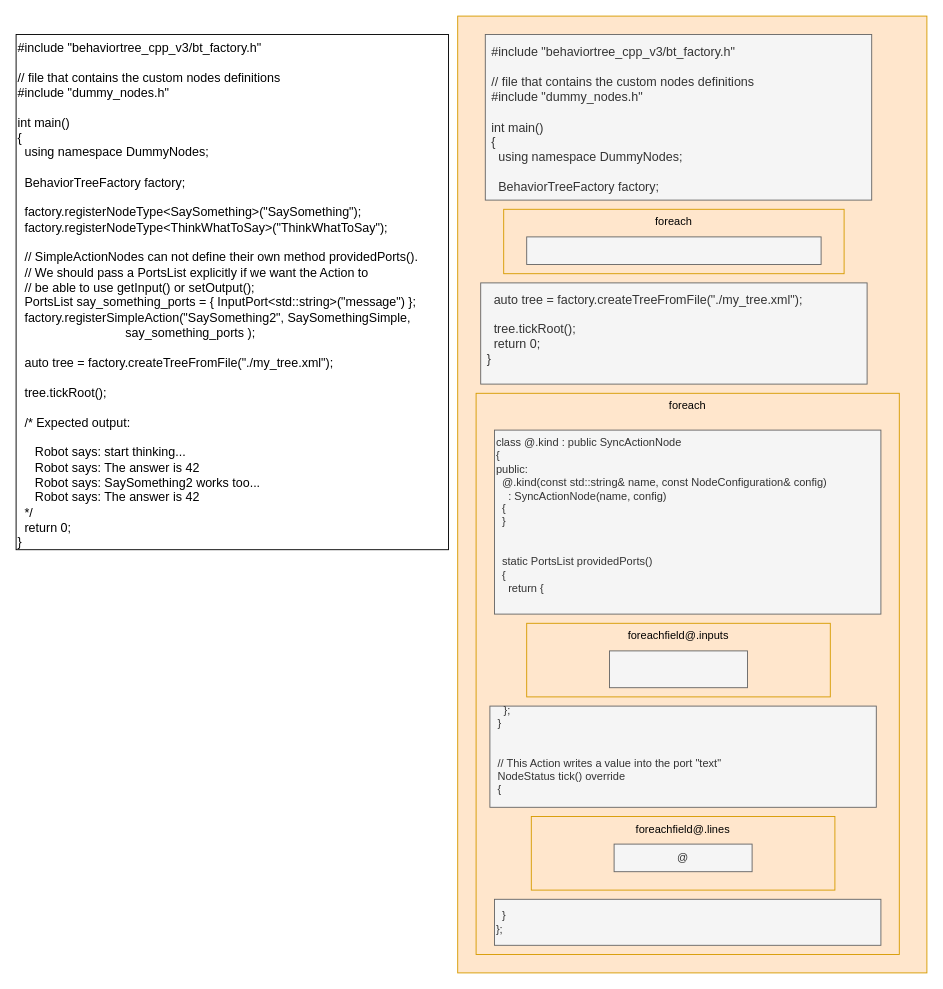
The diagram is 943 pixels wide and 989 high, and some of its shapes have lost their labels. Here are the shapes that lost their labels. From the top down, the centre of each, then its label:
(x=673, y=250): factory.registerNodeType<@.kind>("@.kind")
(x=678, y=669): OutputPort(@)
